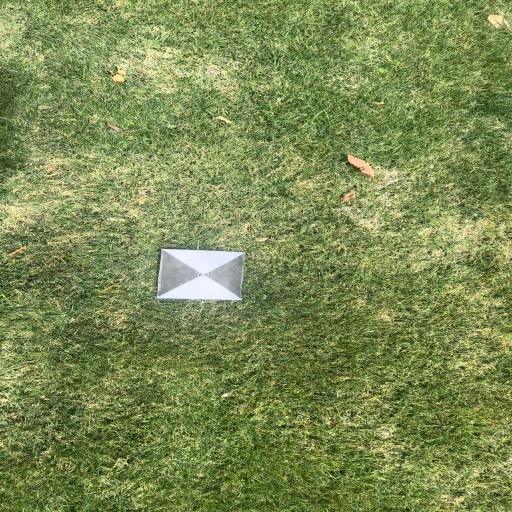target: (158, 250, 246, 300)
